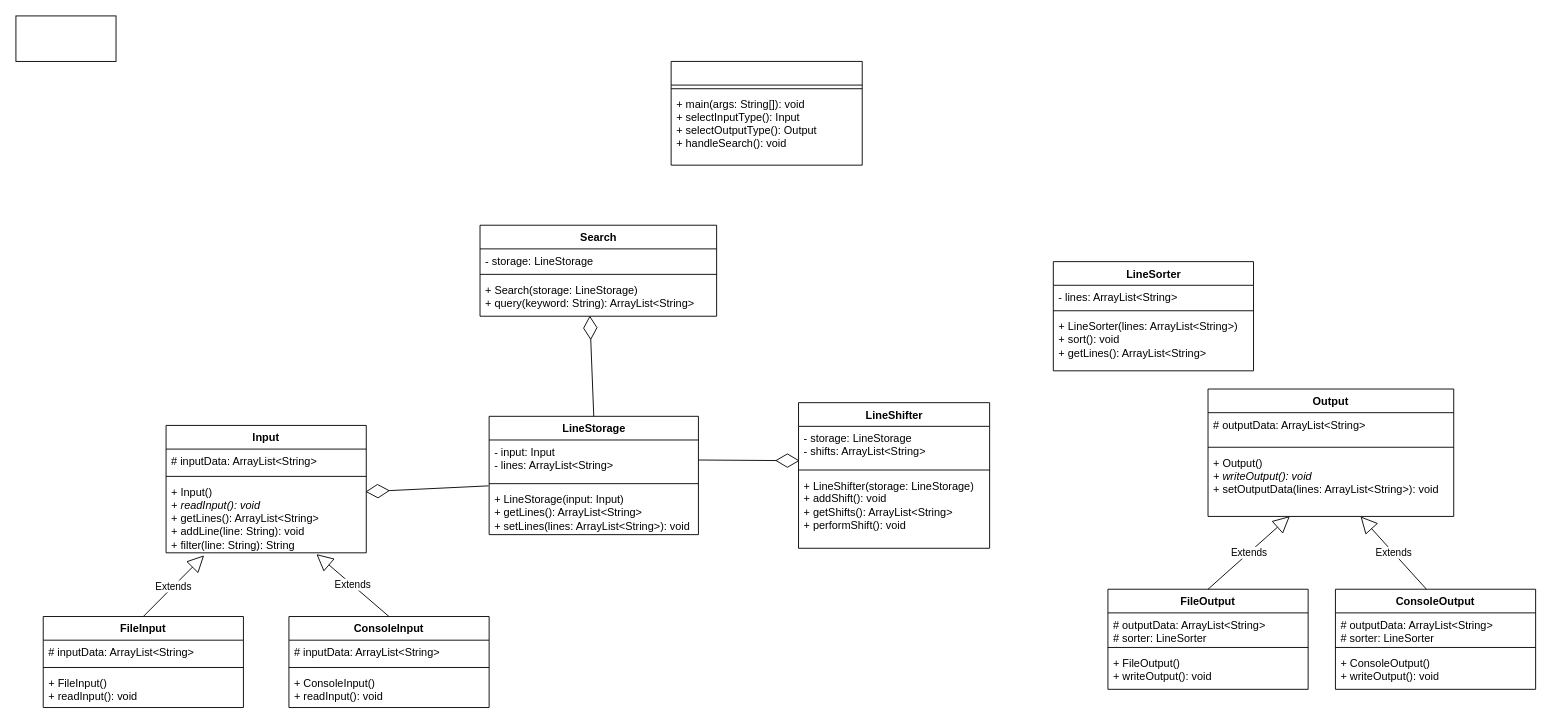
Image size: 1552x726. Some labels were removed from this diagram. Each missing label, with the box of its shape:
Controller: (670, 61, 862, 165)
David Stone SE-311 Homework 1: (15, 15, 116, 61)
